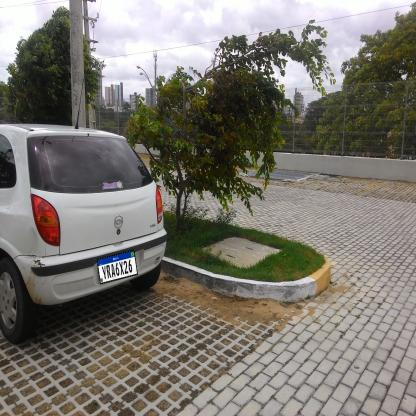PlacaM: (97, 250, 138, 284)
